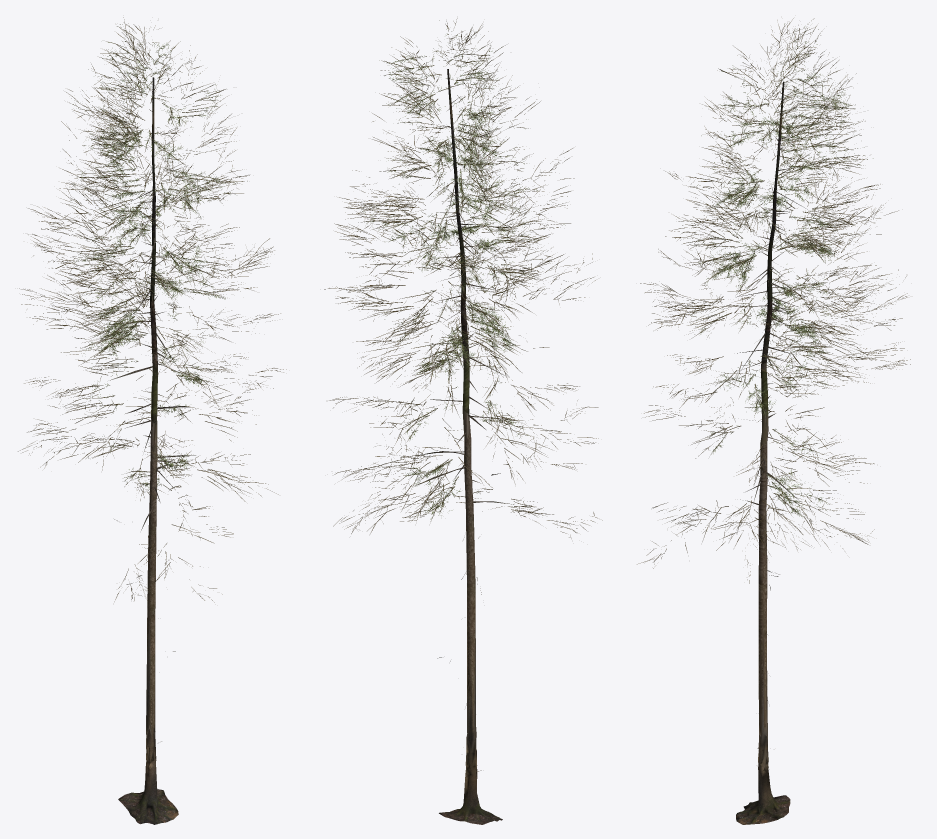
File: fir_tree_01.glb
3 views of the same model, side by side, from view 1: azimuth 30°, elevation 25°; view 2: azimuth 150°, elevation 25°; view 3: azimuth 270°, elevation 25° (orthographic). The views are drawn at different scales.
Visible parts, largest first — view 1: fir_tree_01_a_LOD0; view 2: fir_tree_01_a_LOD0; view 3: fir_tree_01_a_LOD0.
Boxes of the visible parts, <box> form: fir_tree_01_a_LOD0: <box>18,17,286,824</box>; fir_tree_01_a_LOD0: <box>324,18,602,824</box>; fir_tree_01_a_LOD0: <box>637,18,910,824</box>.
Size of the model in its own units: 6.4 by 18.79 by 6.21.
4 materials, 4 textured.
